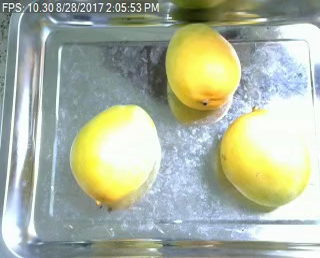Mango: (66, 102, 159, 204), (219, 110, 308, 208), (167, 23, 240, 109)
